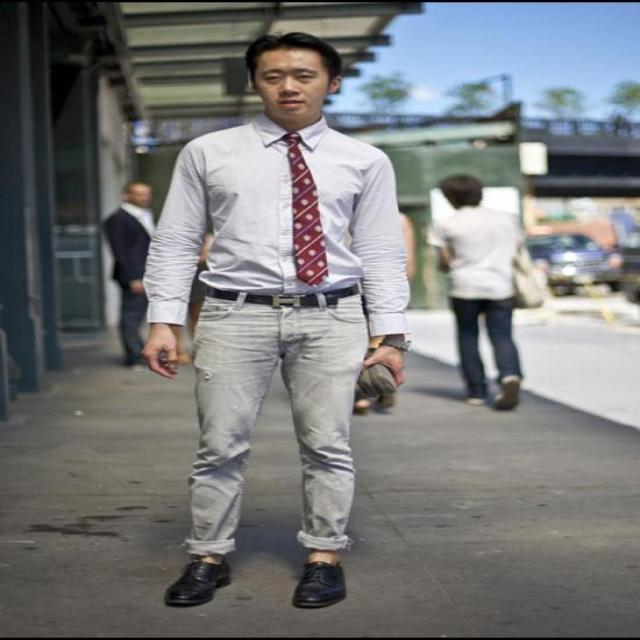pants: (184, 284, 368, 555)
shirt: (140, 116, 413, 334)
